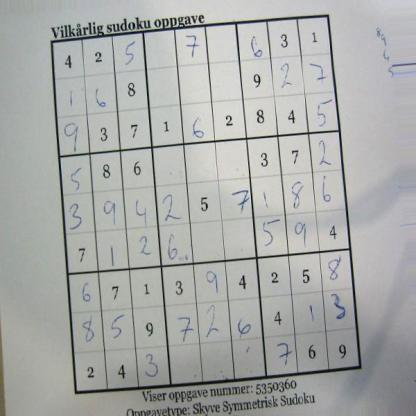sudoku: (49, 13, 366, 395)
